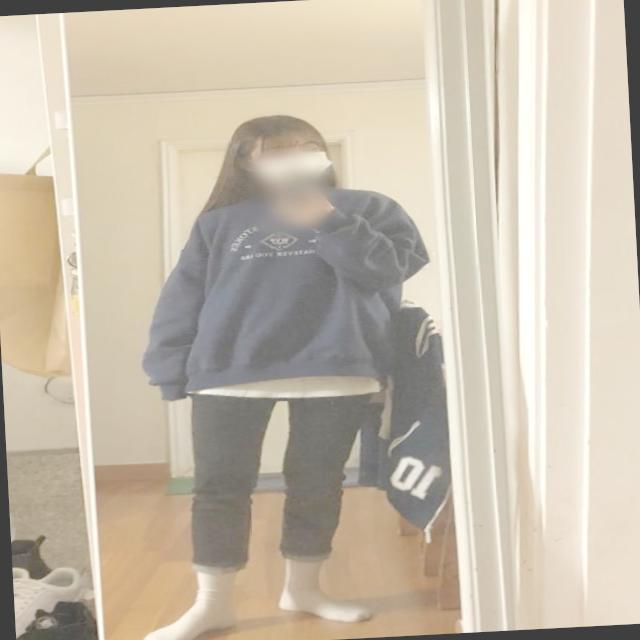denimpants: (182, 385, 382, 571)
mtm: (129, 178, 439, 406)
